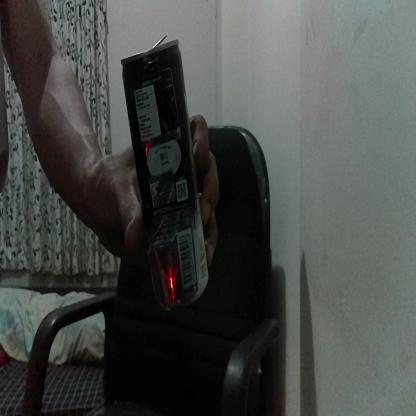alumunium_can: (122, 36, 209, 312)
